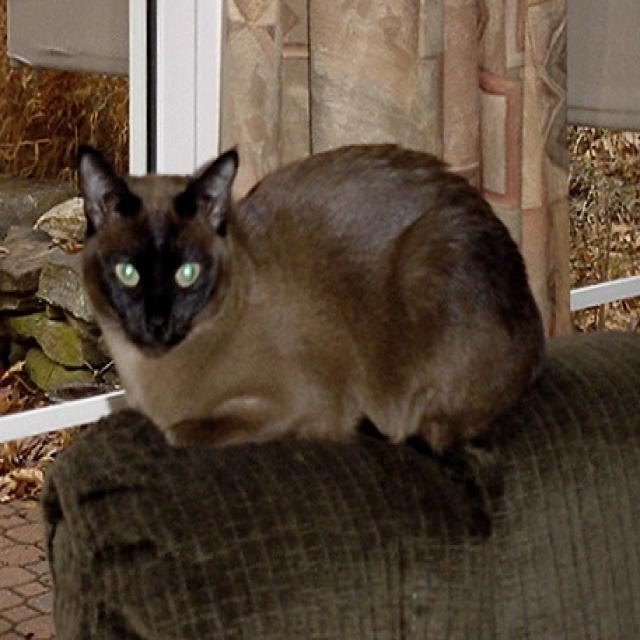cat: (70, 148, 527, 440)
